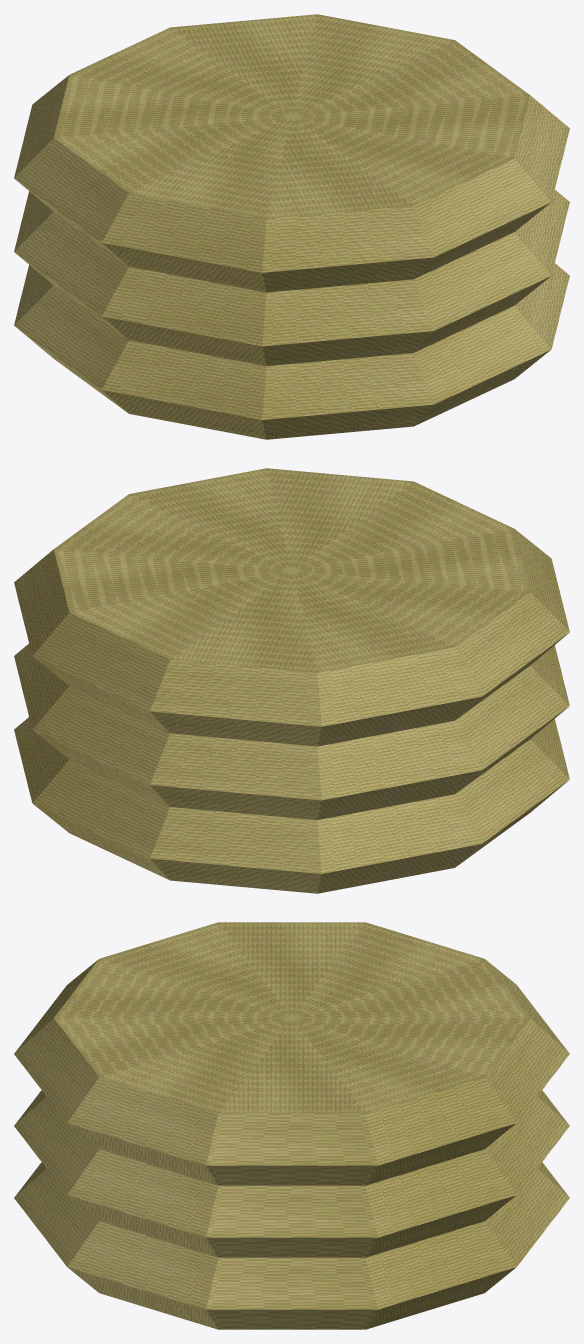
The model's file is fibra.glb.
3 views of the same model, one above another, from view 1: azimuth 30°, elevation 25°; view 2: azimuth 150°, elevation 25°; view 3: azimuth 270°, elevation 25° (orthographic). The views are drawn at different scales.
Parts seen in each view (by area): view 1: fibra; view 2: fibra; view 3: fibra.
Boxes of the visible parts, x1=… form: fibra: x1=14, y1=14, x2=569, y2=439; fibra: x1=14, y1=468, x2=569, y2=893; fibra: x1=14, y1=922, x2=569, y2=1329.
Bounding box in the file's own units: 0.3994 × 0.18 × 0.42.
1 material, 1 textured.
